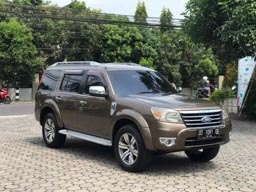plat: (196, 127, 223, 135)
